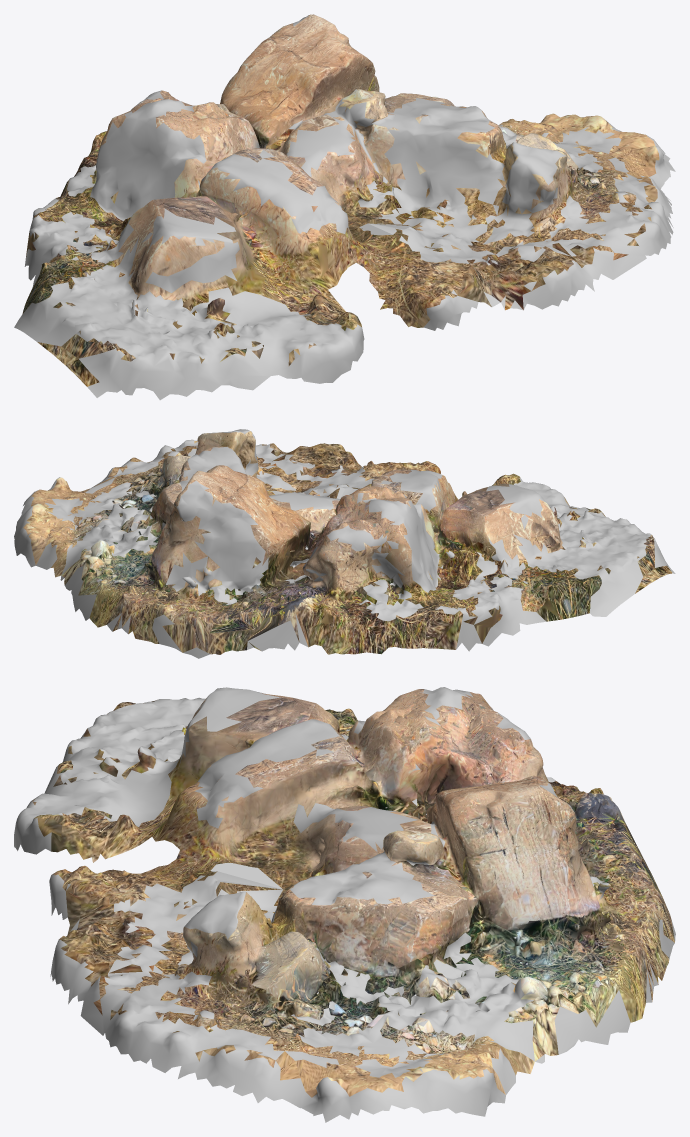
3 views of the same model, one above another, from view 1: azimuth 30°, elevation 25°; view 2: azimuth 150°, elevation 25°; view 3: azimuth 270°, elevation 25° (orthographic). The views are drawn at different scales.
Visible parts, largest first — view 1: Big rocks unshadowed_0; view 2: Big rocks unshadowed_0; view 3: Big rocks unshadowed_0.
Part boxes in pixels (x1,y1,x2,y2): Big rocks unshadowed_0: [14, 14, 675, 400]; Big rocks unshadowed_0: [14, 429, 675, 658]; Big rocks unshadowed_0: [14, 687, 675, 1122].
Size of the model in its own units: 11.49 by 2.72 by 8.31.
